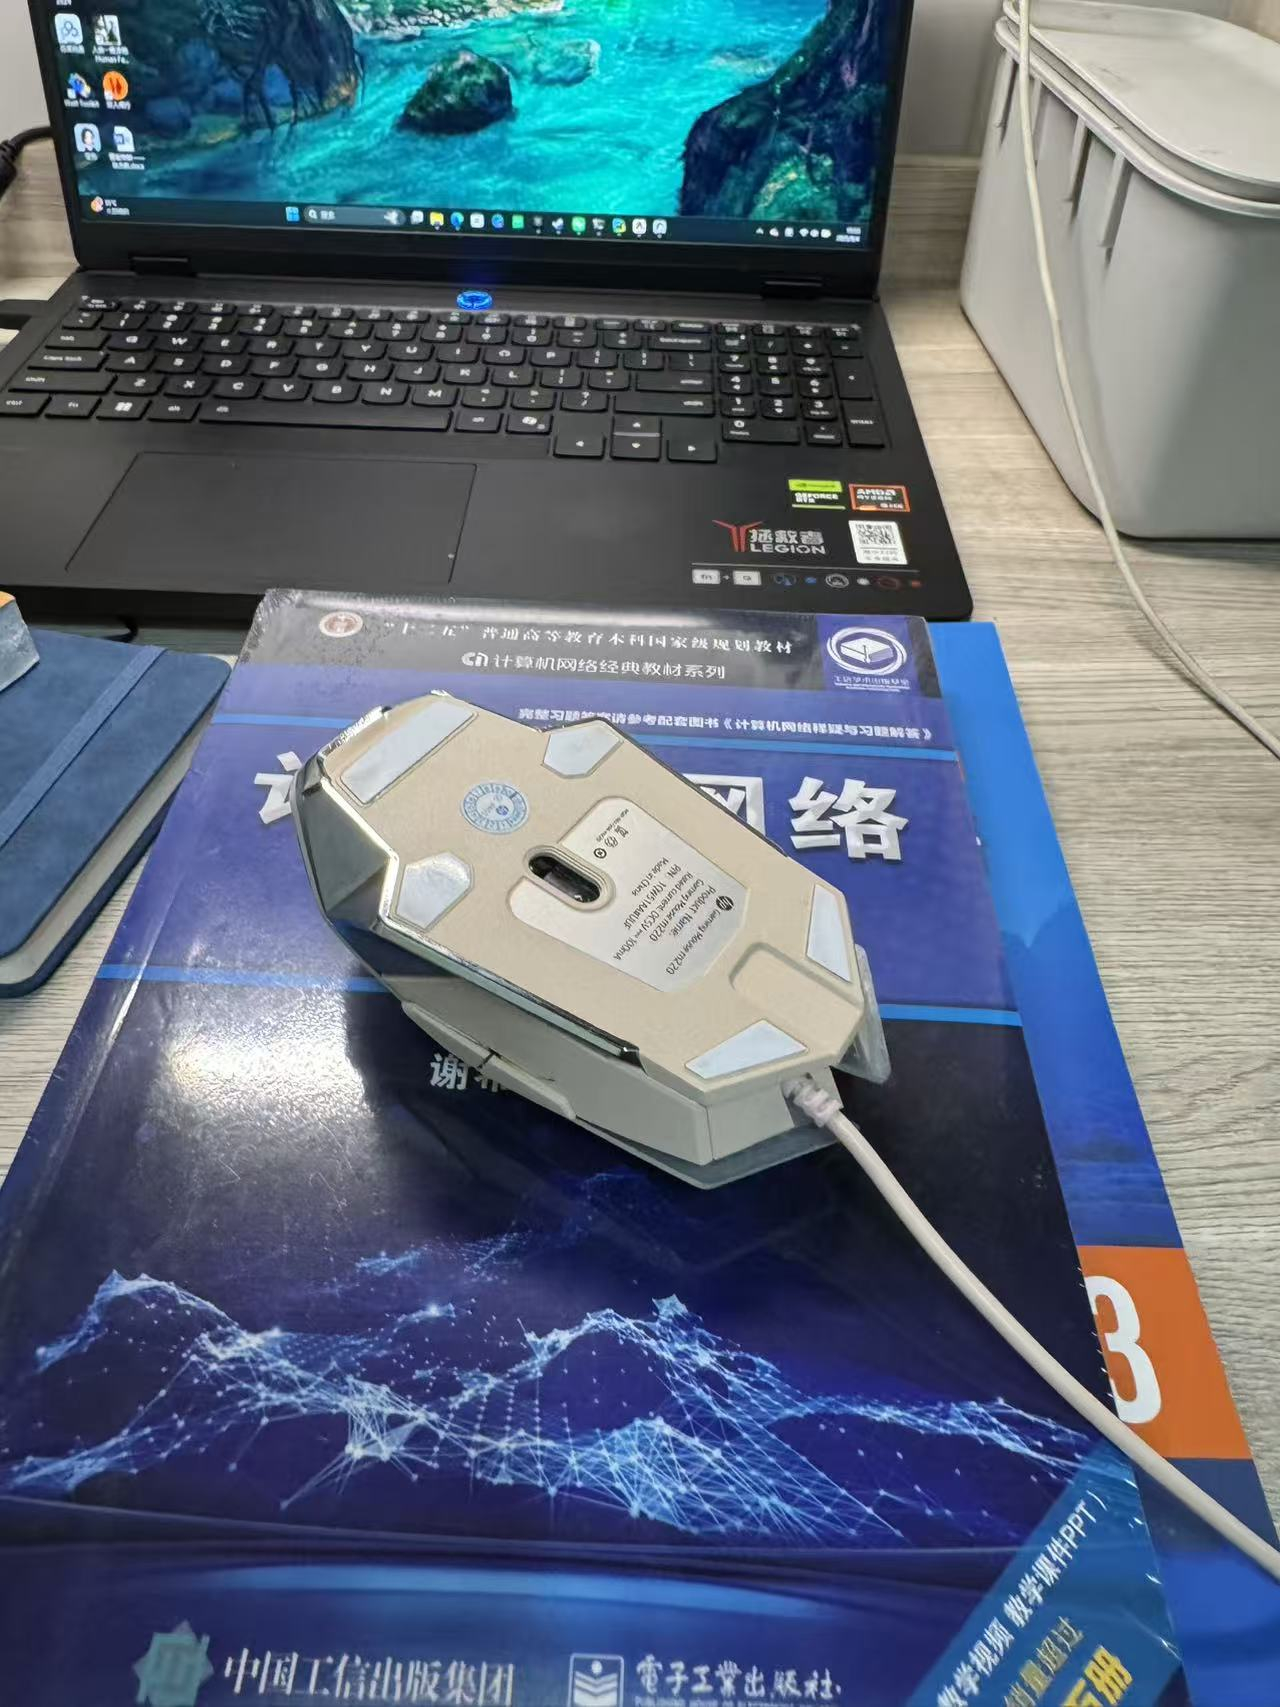mouse: (243, 653, 965, 1210)
